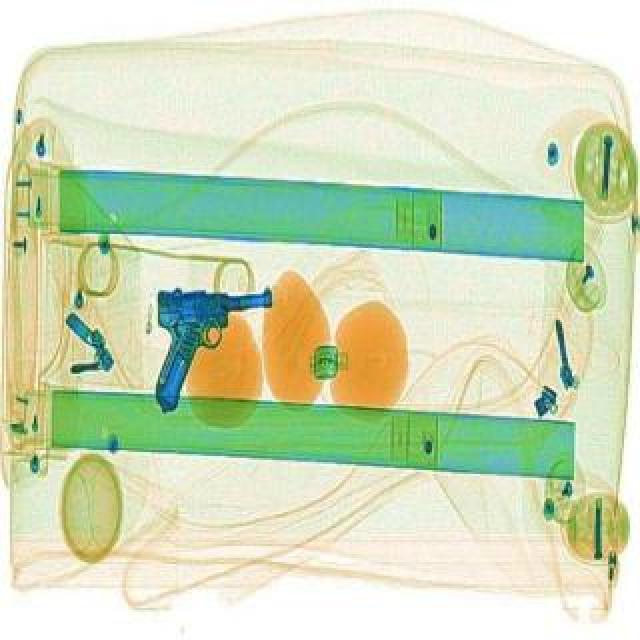gun: (148, 284, 272, 418)
